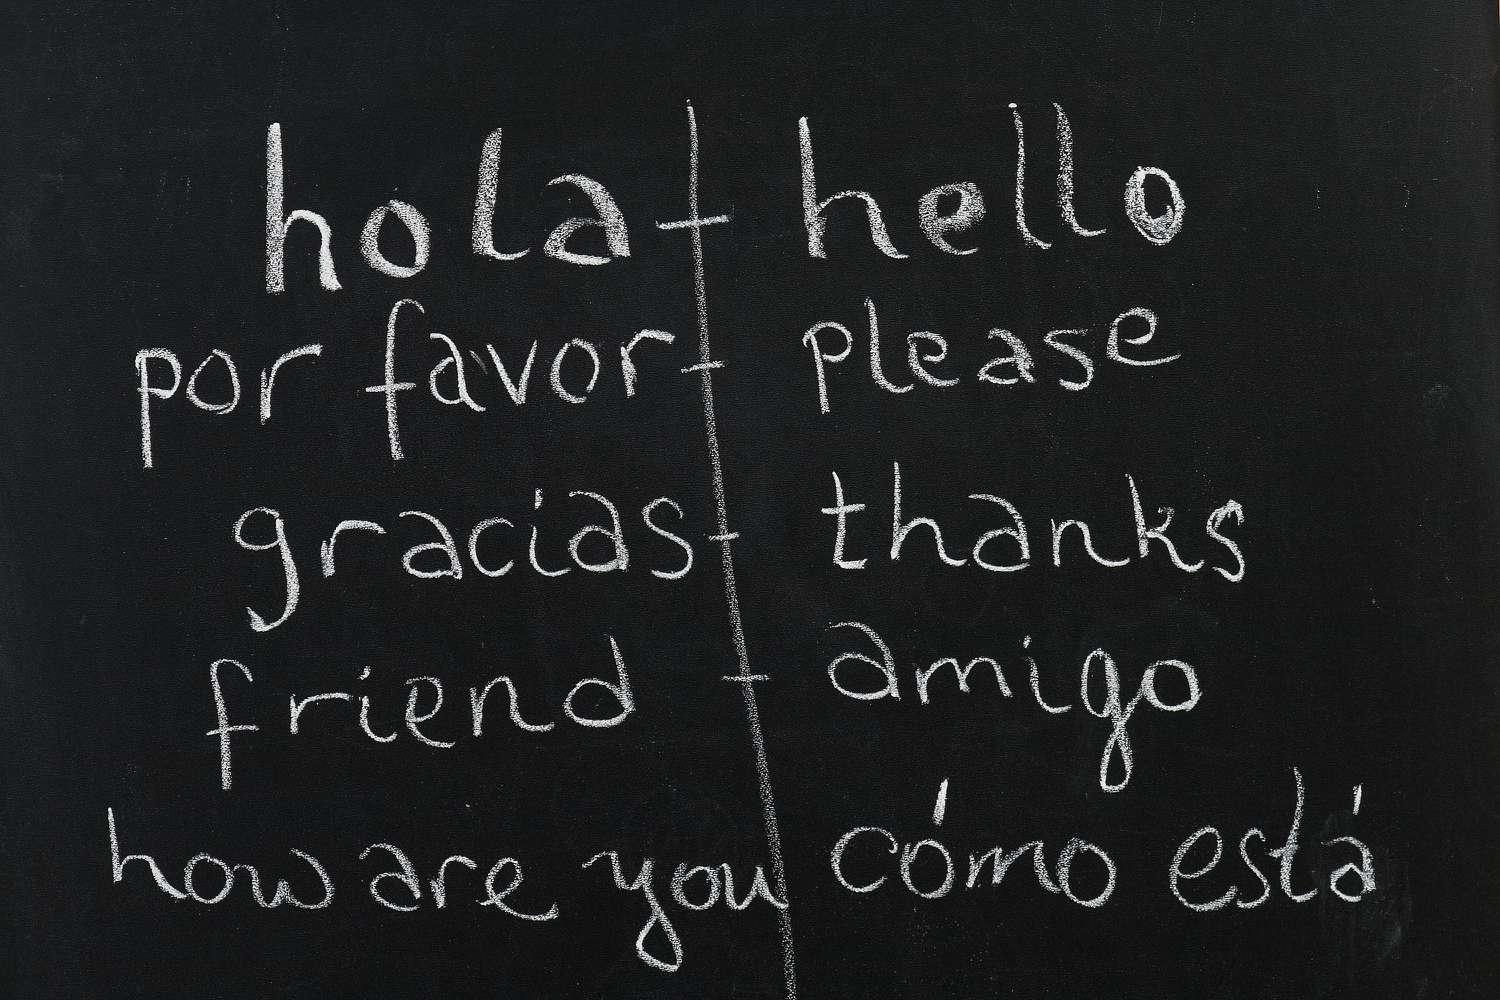text: (102, 753, 1382, 983), (133, 285, 1189, 477), (254, 90, 1190, 307), (200, 613, 1209, 811), (221, 459, 1256, 645)
